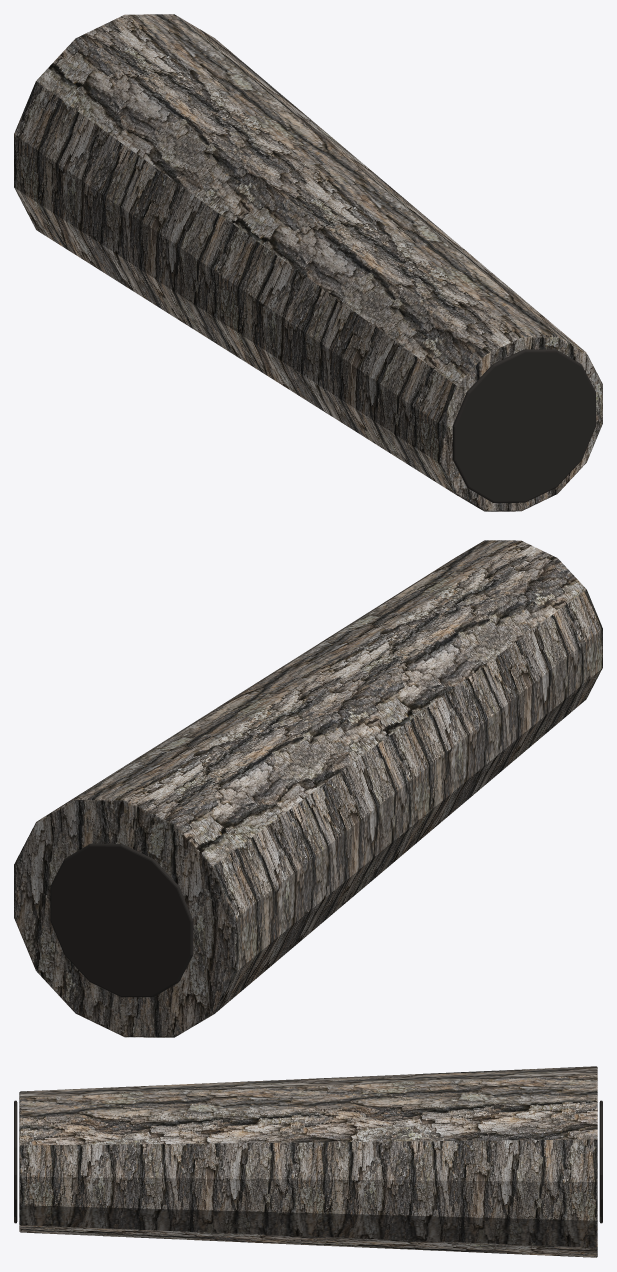
The model's file is rotted-hollow-log-v01.glb.
The picture shows the model from 3 angles, top to bottom: view 1: azimuth 30°, elevation 25°; view 2: azimuth 150°, elevation 25°; view 3: azimuth 270°, elevation 25°; orthographic projection. The views are drawn at different scales.
Visible parts, largest first — view 1: rotted-hollow-log; view 2: rotted-hollow-log; view 3: rotted-hollow-log.
Part boxes in pixels (bbox=[...]): rotted-hollow-log: bbox=[14, 14, 602, 511]; rotted-hollow-log: bbox=[14, 540, 602, 1037]; rotted-hollow-log: bbox=[14, 1066, 602, 1257].
Bounding box in the file's own units: 1.03 × 1.06 × 3.26.
Materials: 2 (1 with a texture image).
